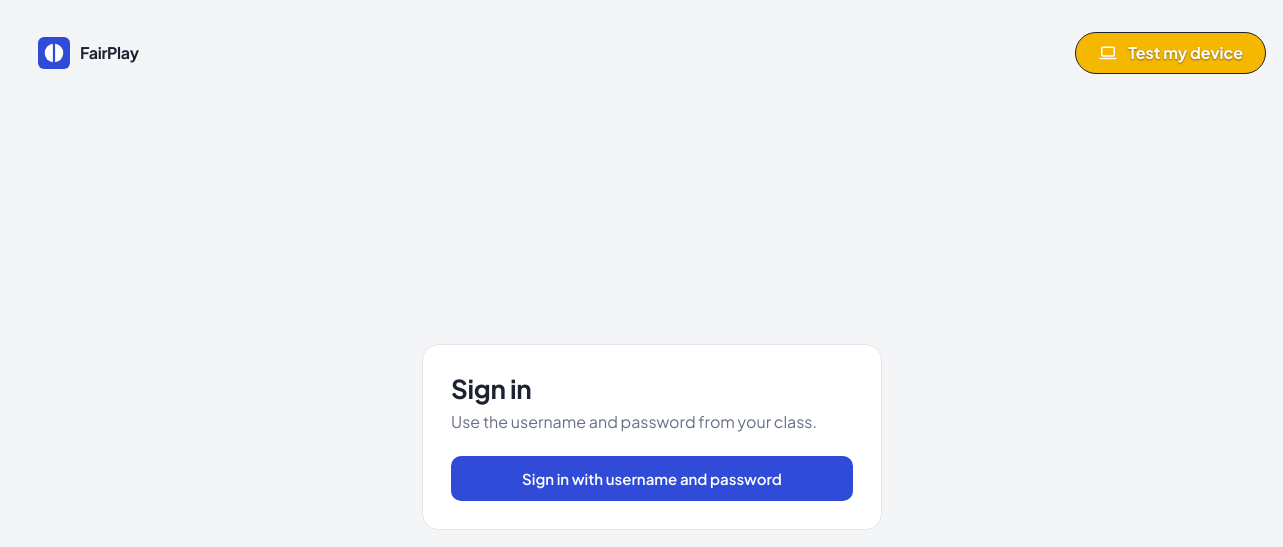
Test case: device test start › opens the page when the app says started
Click the button "Test my device" at (1171, 53), box x1=1075 y1=32 x2=1266 y2=74
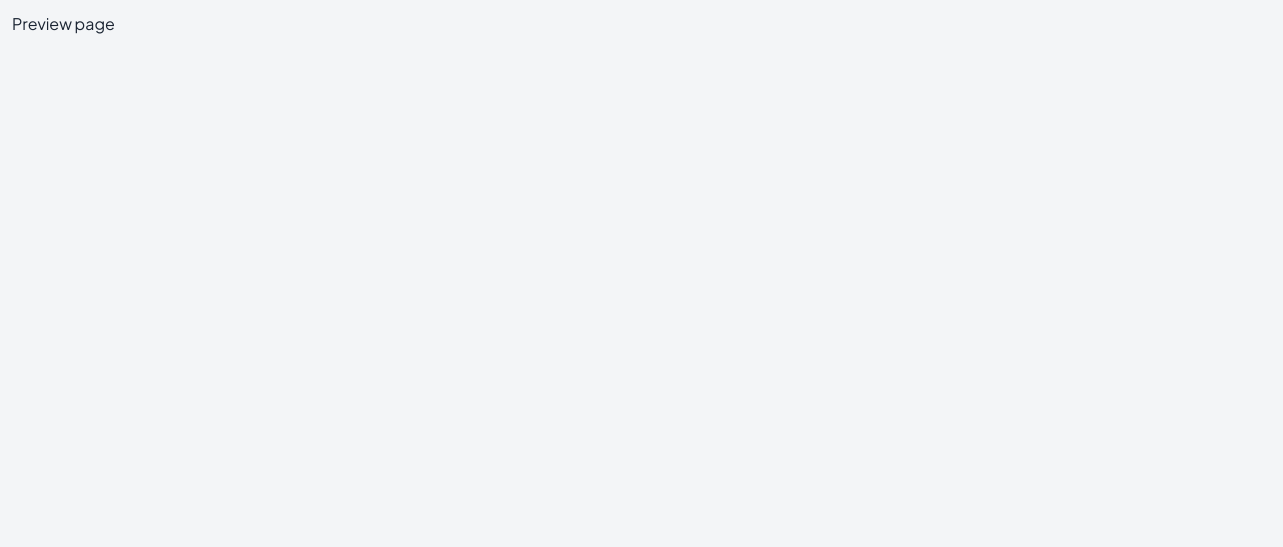
Result: the text "Preview page" is shown at x1=12 y1=13 x2=115 y2=34
